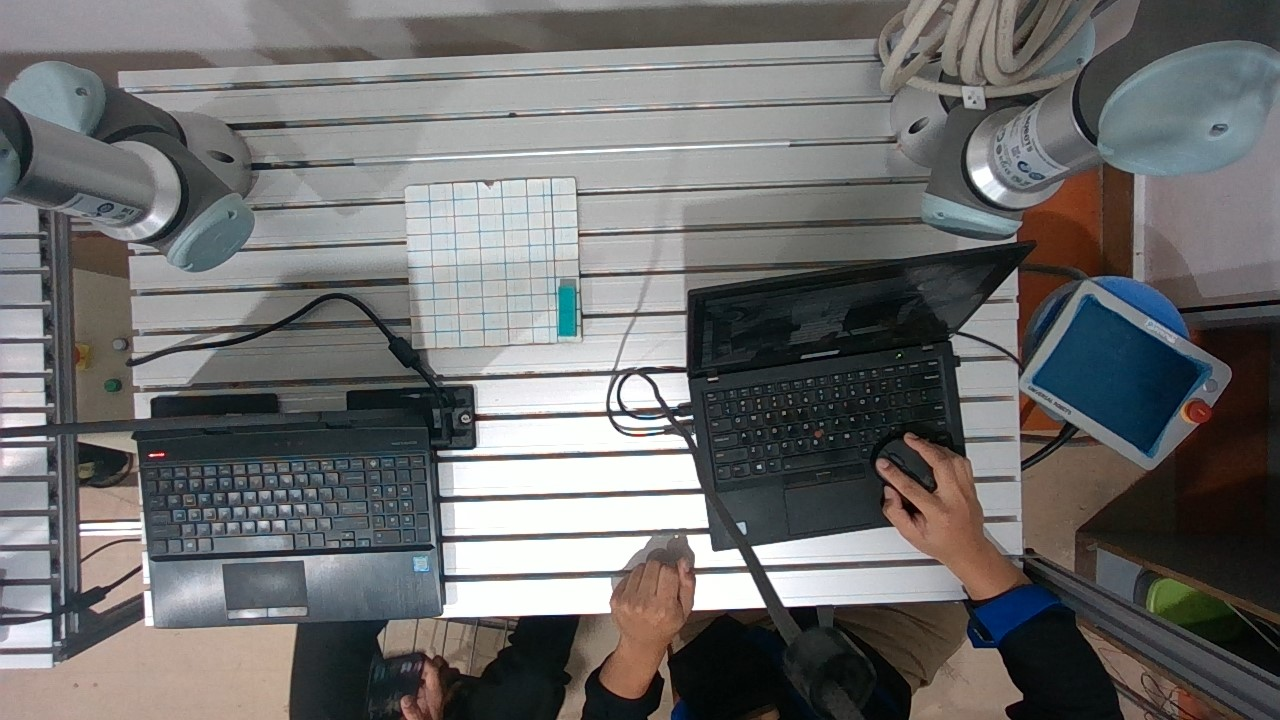box: (554, 276, 581, 346)
